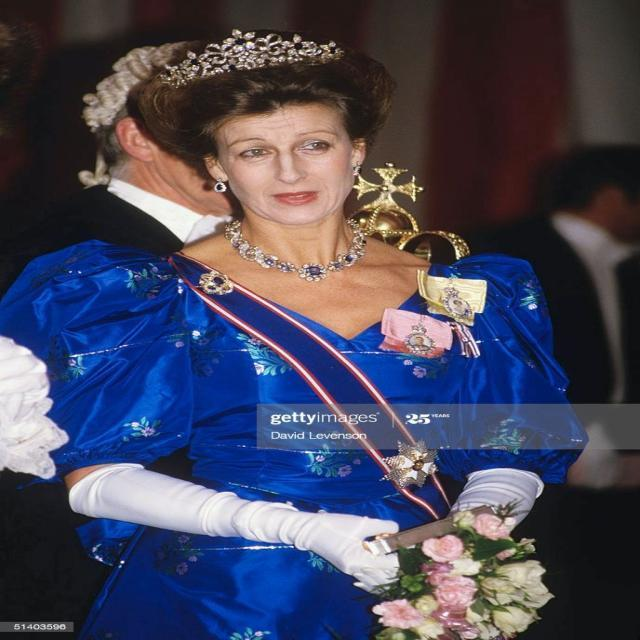Earring: (205, 172, 238, 202), (342, 156, 368, 182)
